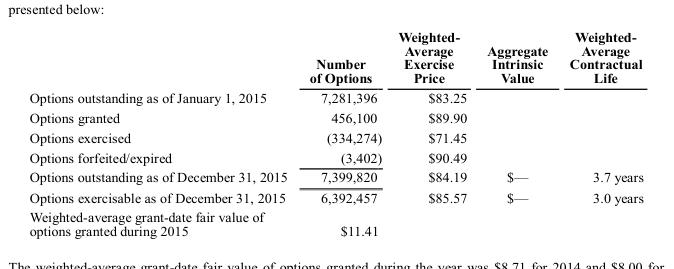table: (28, 28, 642, 238)
table column: (28, 28, 297, 238), (297, 28, 389, 238), (389, 28, 476, 238), (558, 28, 642, 238), (476, 28, 558, 238)
table column header: (28, 28, 642, 87)
table row: (28, 28, 642, 87), (28, 207, 642, 238), (28, 166, 642, 187), (28, 87, 642, 107), (28, 126, 642, 146), (28, 146, 642, 166), (28, 187, 642, 207), (28, 107, 642, 126)
